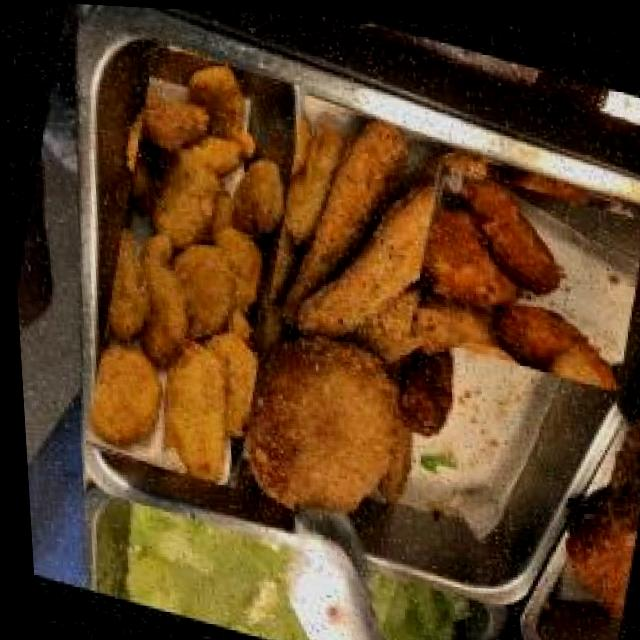chicken_nuggets: (60, 40, 325, 490)
triangle_hash_brown: (404, 151, 640, 394)
